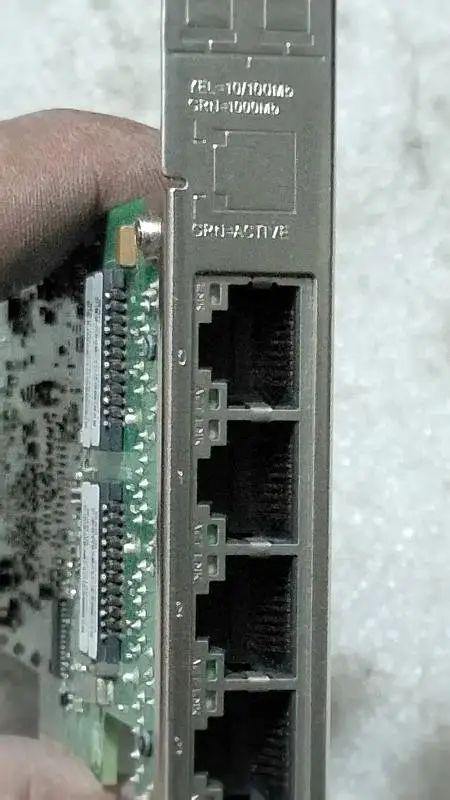electronic: (1, 0, 363, 800)
